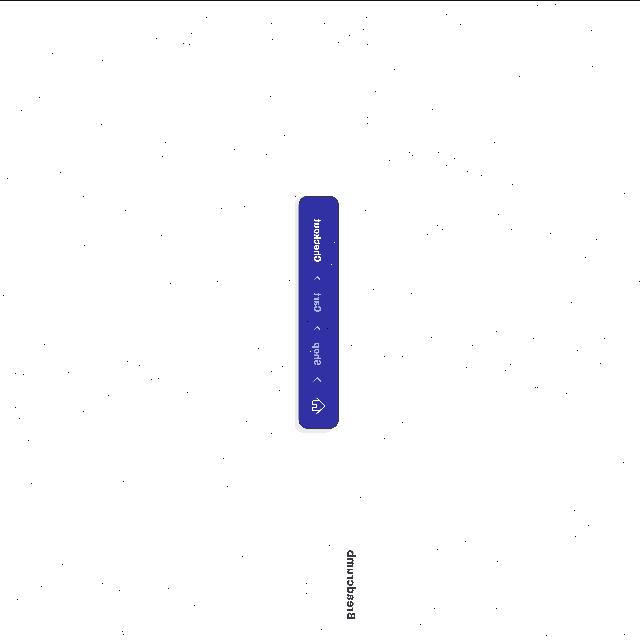QLabel: (346, 547, 358, 621)
VBreadcrumbs: (295, 195, 341, 432)
